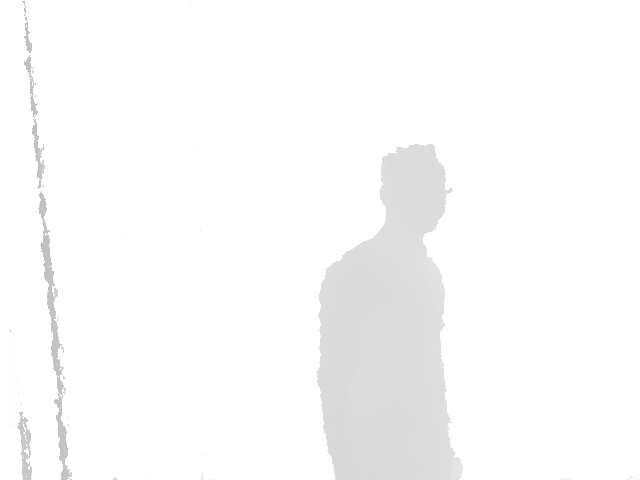head: (379, 143, 452, 239)
person: (315, 145, 467, 480)
